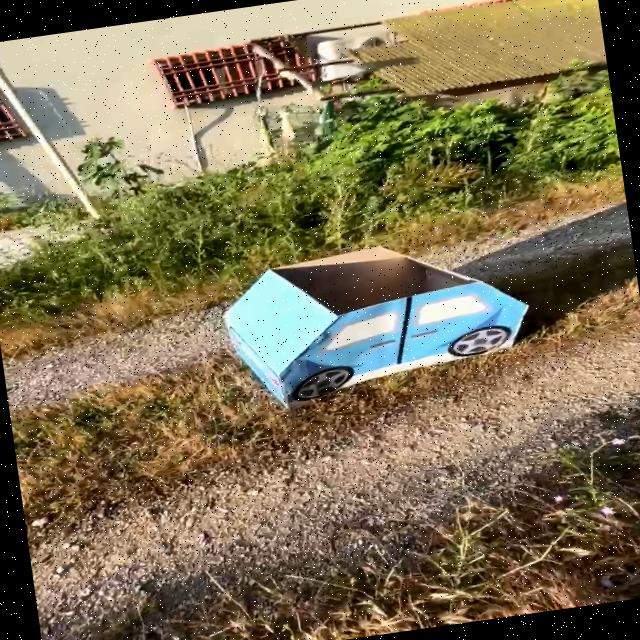blue_car: (161, 200, 596, 445)
